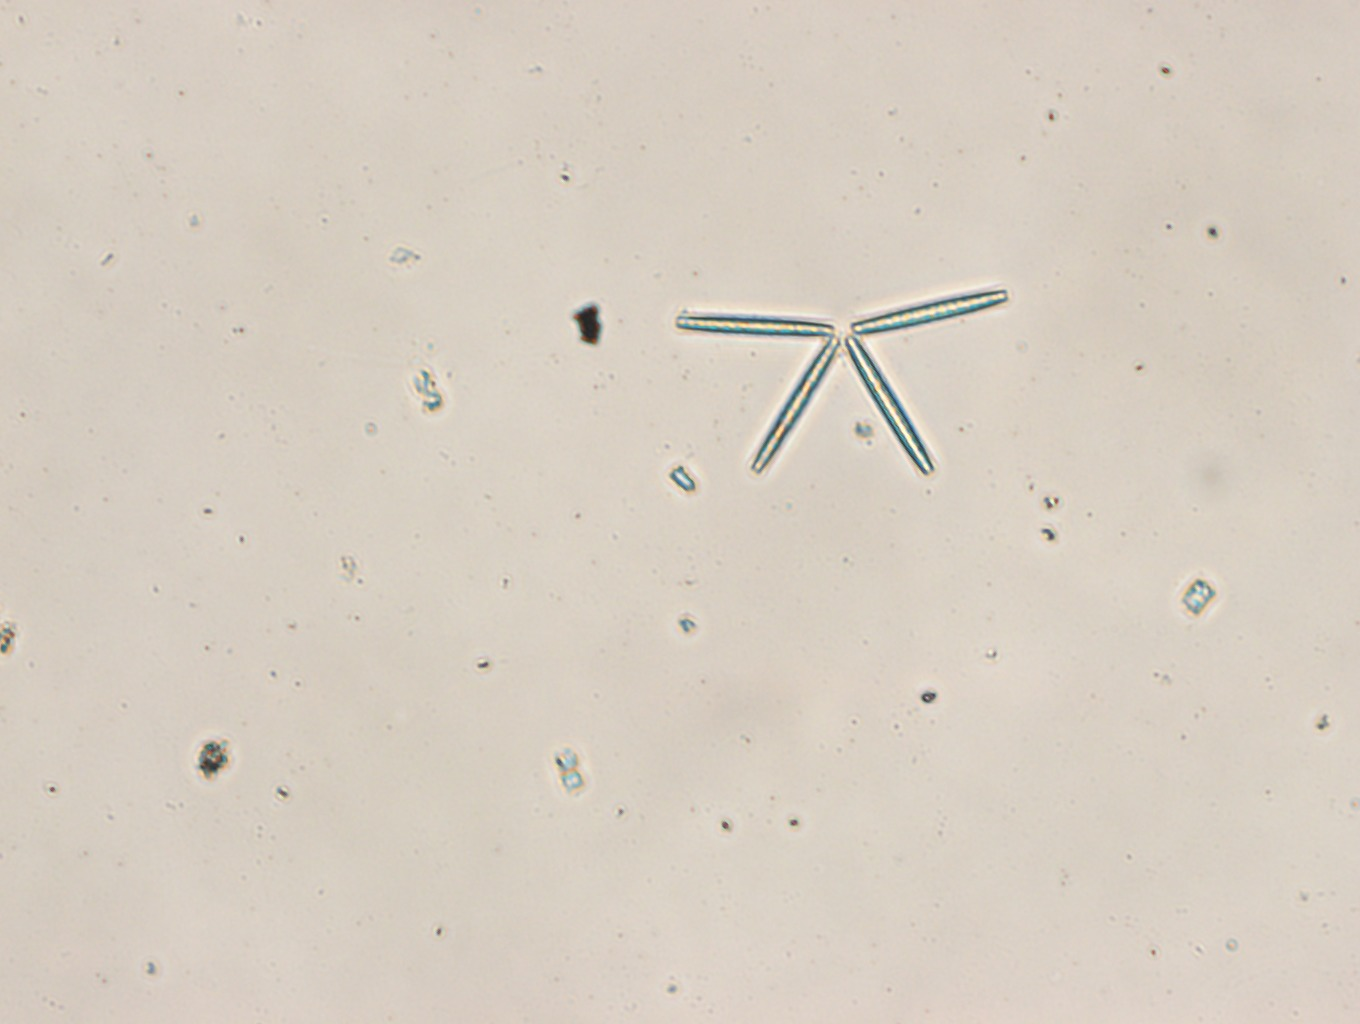thalassionema nitzschioides: (673, 286, 1008, 477)
